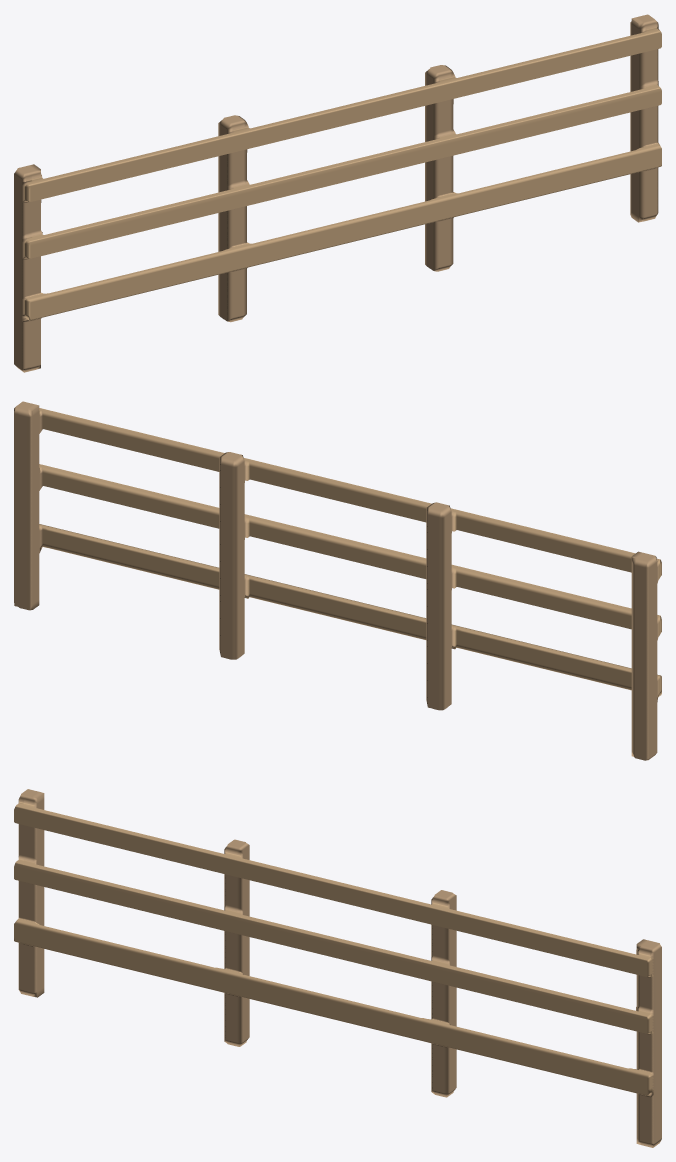
Rendered from fence.glb.
The picture shows the model from 3 angles, top to bottom: view 1: azimuth 30°, elevation 25°; view 2: azimuth 150°, elevation 25°; view 3: azimuth 330°, elevation 25°; orthographic projection.
Parts seen in each view (by area): view 1: IronSmith model; view 2: IronSmith model; view 3: IronSmith model.
Part boxes in pixels (left/top/right/bottom): IronSmith model: left=14, top=14, right=661, bottom=372; IronSmith model: left=14, top=401, right=661, bottom=760; IronSmith model: left=14, top=789, right=661, bottom=1147.
Size of the model in its own units: 40 by 12 by 1.7.
